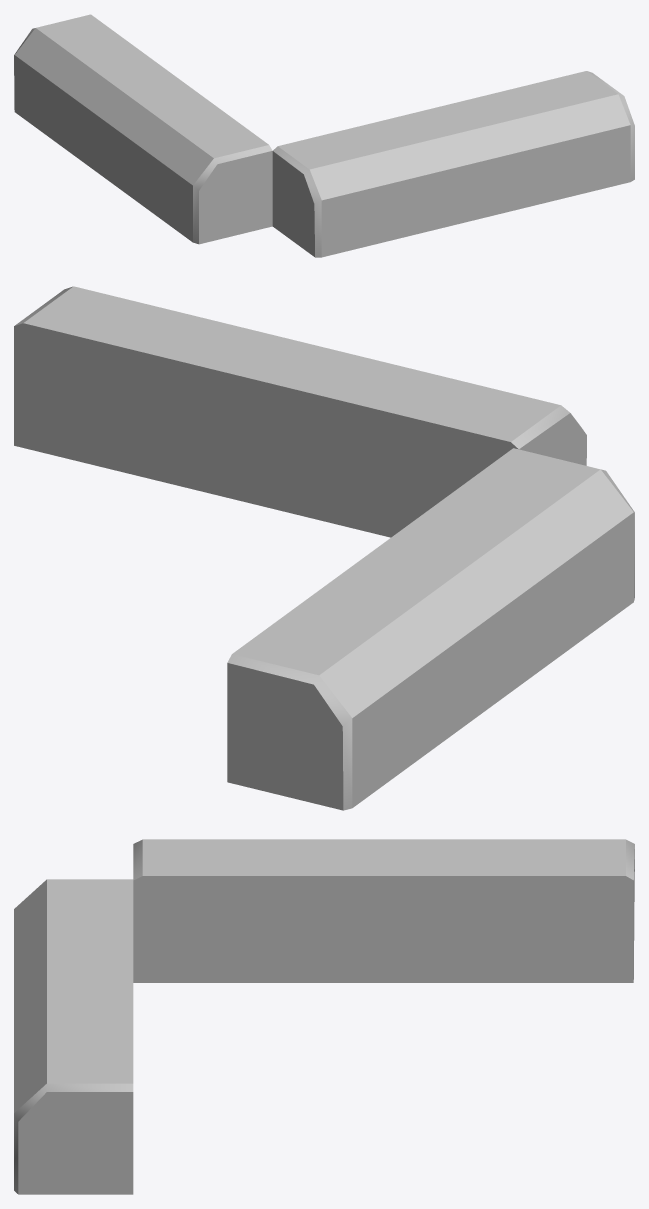
The model's file is SM_Border_40.fbx.
3 views of the same model, one above another, from view 1: azimuth 30°, elevation 25°; view 2: azimuth 150°, elevation 25°; view 3: azimuth 270°, elevation 25° (orthographic). The views are drawn at different scales.
Visible parts, largest first — view 1: SM_Border_40; view 2: SM_Border_40; view 3: SM_Border_40.
Part boxes in pixels (x1,y1,x2,y2): SM_Border_40: [14, 14, 634, 257]; SM_Border_40: [14, 286, 634, 810]; SM_Border_40: [14, 839, 634, 1194].
Size of the model in its own units: 37.15 by 7.09 by 37.23.
